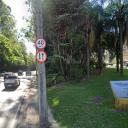speed_limit_40: (35, 38, 46, 49)
